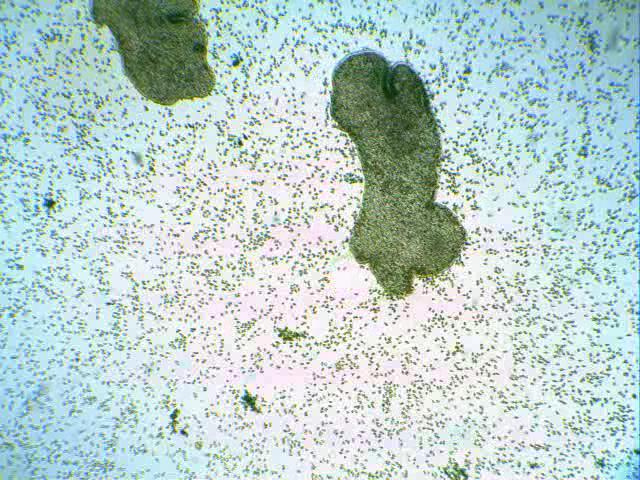Placozoan: (330, 52, 466, 297), (91, 0, 215, 106)
